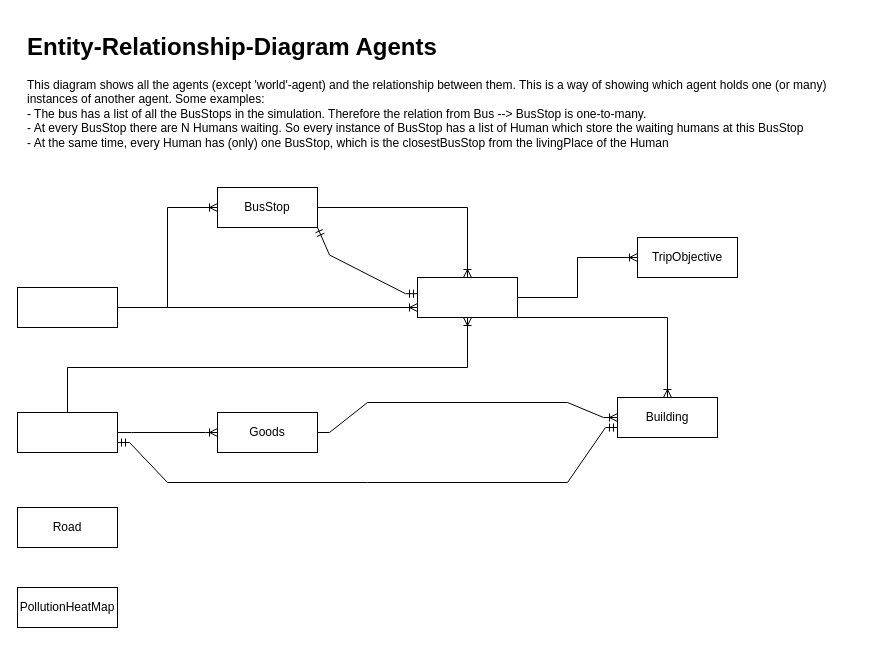
Image size: 880x645. Some labels were removed from this diagram. The centre of each missing label's shape, as x and y in pixels:
"Bus" belongs at point (67, 307).
"Human" belongs at point (467, 297).
"Mpav" belongs at point (67, 432).
